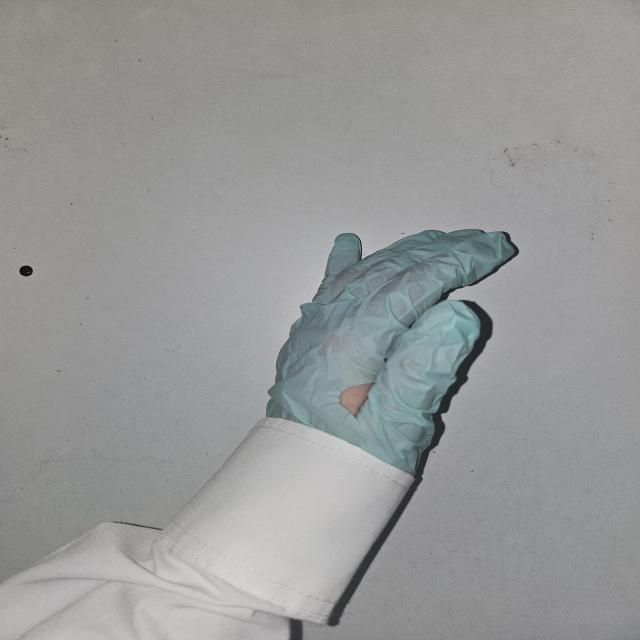gloves_damaged: (270, 226, 521, 485)
